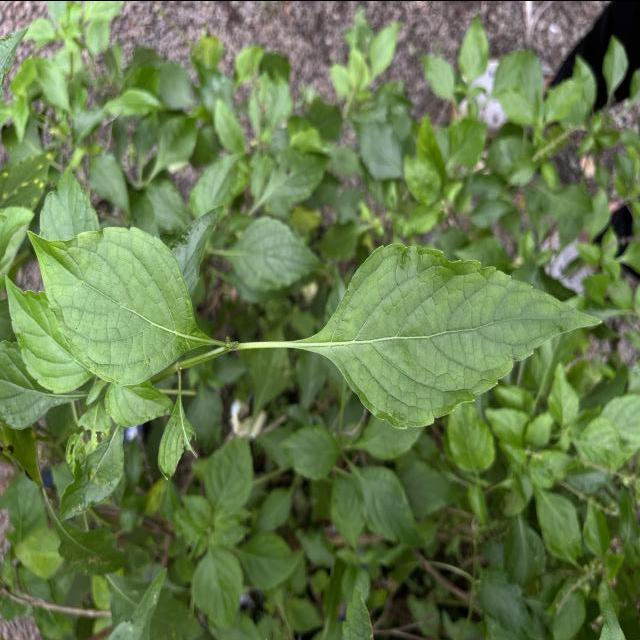Ocimum gratissimum: (274, 238, 606, 432), (19, 220, 226, 388), (1, 270, 106, 398)
